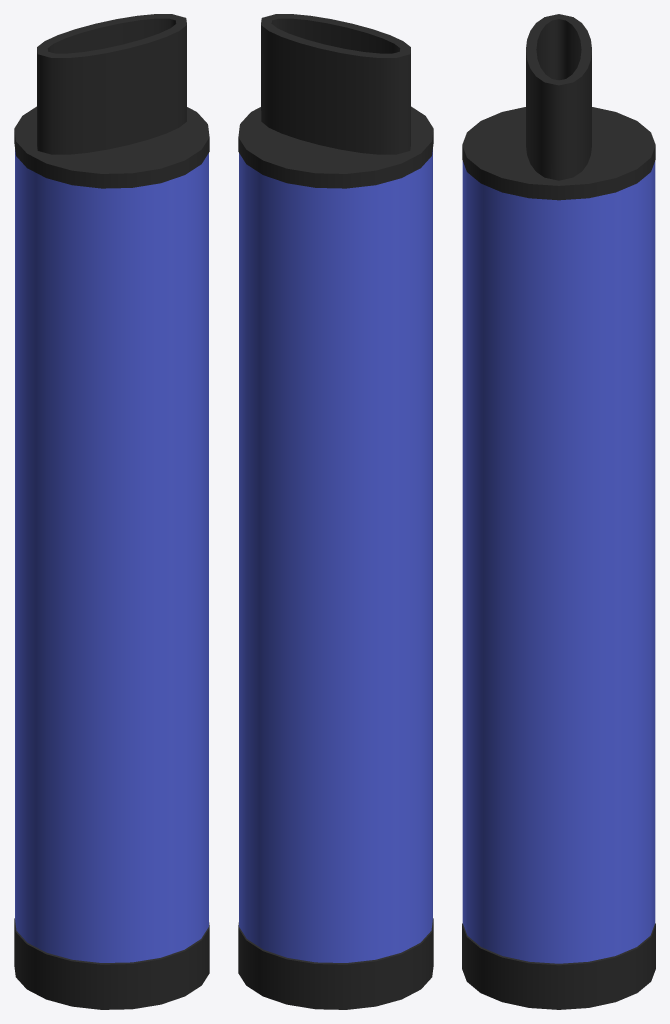
Rendered from colored elf bar.fbx.
3 renders of one model, left to right at view 1: azimuth 30°, elevation 25°; view 2: azimuth 150°, elevation 25°; view 3: azimuth 270°, elevation 25°, orthographic.
Visible parts, largest first — view 1: cover_elf_bar, suction_nozzle_elf_bar, base_elf_bar; view 2: cover_elf_bar, suction_nozzle_elf_bar, base_elf_bar; view 3: cover_elf_bar, suction_nozzle_elf_bar, base_elf_bar.
Boxes of the visible parts, bbox=[...] form: cover_elf_bar: bbox=[15, 149, 208, 962]; suction_nozzle_elf_bar: bbox=[14, 14, 209, 188]; base_elf_bar: bbox=[14, 918, 209, 1009]; cover_elf_bar: bbox=[239, 149, 432, 962]; suction_nozzle_elf_bar: bbox=[238, 14, 433, 188]; base_elf_bar: bbox=[238, 918, 433, 1009]; cover_elf_bar: bbox=[462, 161, 655, 963]; suction_nozzle_elf_bar: bbox=[462, 14, 655, 200]; base_elf_bar: bbox=[462, 923, 655, 1009].
Size of the model in its own units: 1.16 by 6.09 by 1.16.
